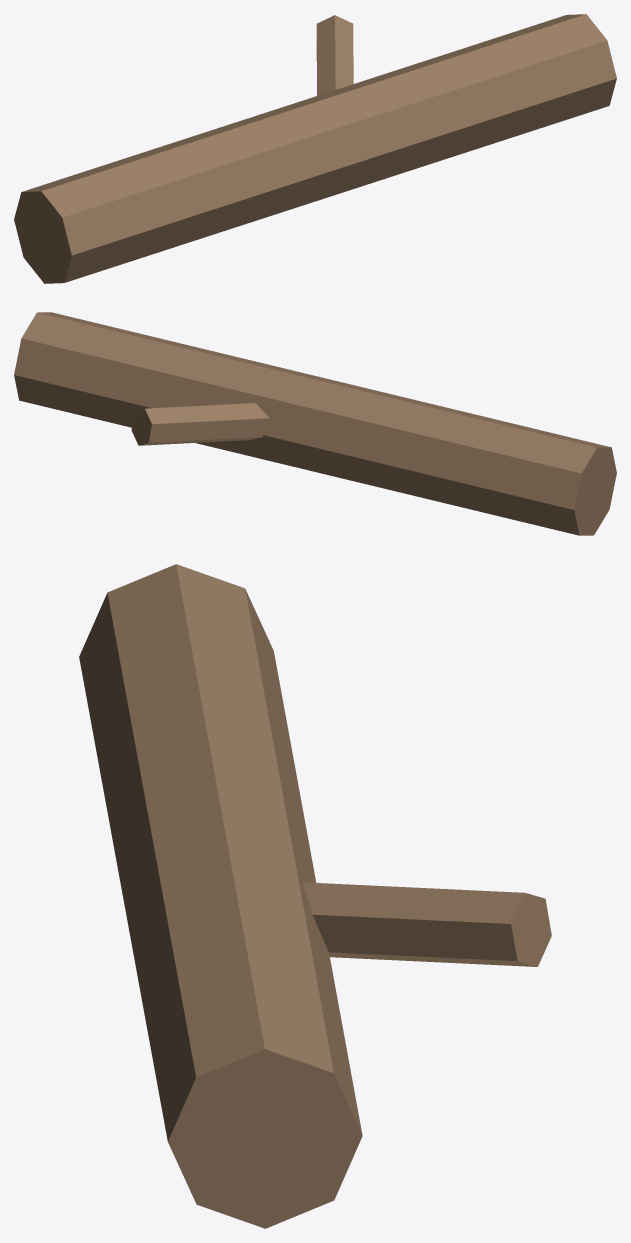
The model's file is driftwood.glb.
The picture shows the model from 3 angles, top to bottom: view 1: azimuth 30°, elevation 25°; view 2: azimuth 150°, elevation 25°; view 3: azimuth 270°, elevation 25°; orthographic projection. The views are drawn at different scales.
Visible parts, largest first — view 1: Trunk, Branch; view 2: Trunk, Branch; view 3: Trunk, Branch.
Boxes of the visible parts, x1,y1,x2,y2 form: Trunk: [14, 14, 616, 283]; Branch: [316, 15, 353, 95]; Trunk: [14, 312, 616, 535]; Branch: [131, 403, 269, 445]; Trunk: [79, 564, 362, 1228]; Branch: [302, 882, 551, 966].
Bounding box in the file's own units: 2.83 × 0.5397 × 1.07.
